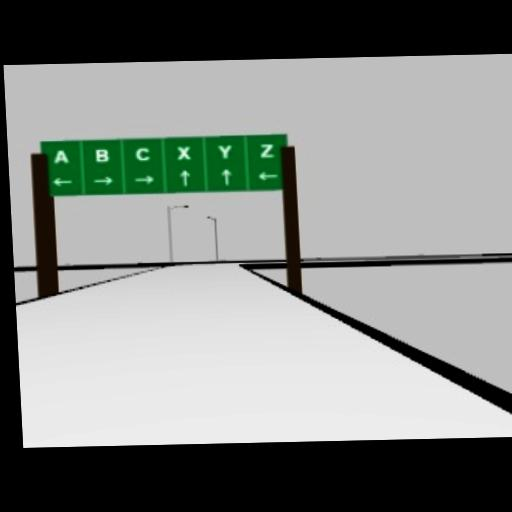A: (53, 149, 68, 163)
B: (94, 148, 109, 162)
C: (134, 145, 150, 159)
Left: (256, 169, 279, 180), (51, 176, 74, 186)
Right: (132, 173, 155, 183), (91, 175, 114, 185)
Straight: (178, 168, 190, 184), (220, 167, 232, 183)
X: (176, 144, 190, 158)
Y: (218, 143, 232, 157)
Z: (259, 142, 273, 156)
